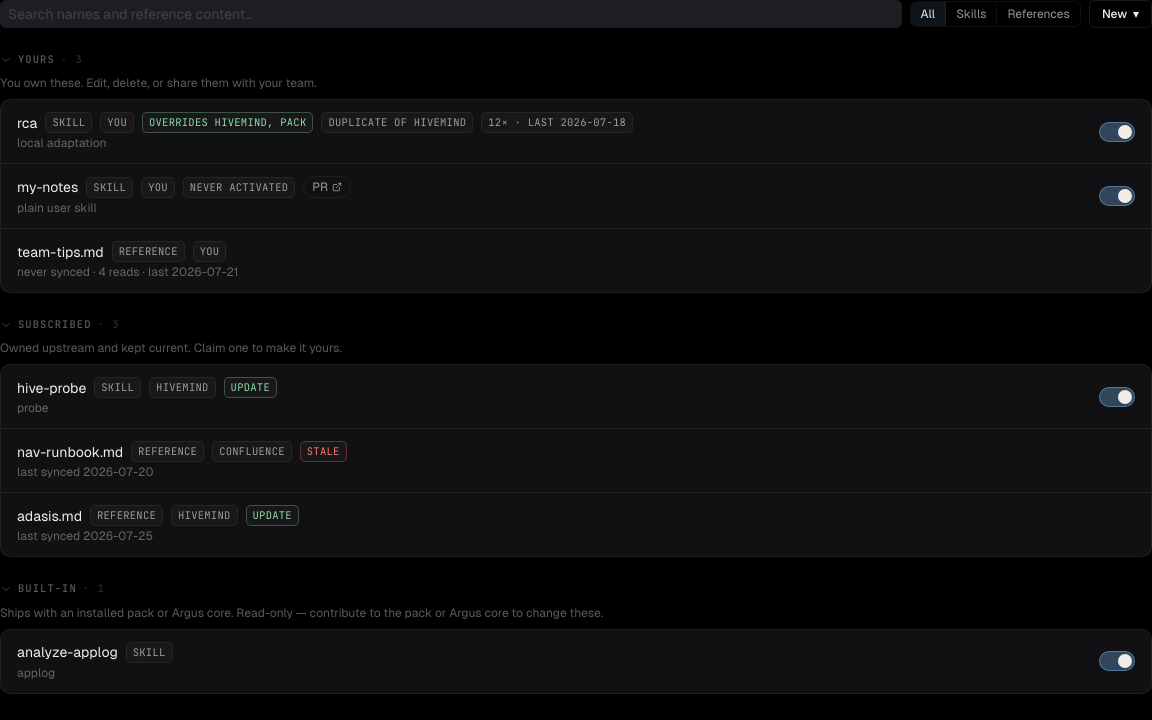
it: LibraryPage merged list › clicking a skill name opens the skill viewer with SKILL.md content
Click the button with aria-label "open · rca" at (27, 123), box [17,113,38,133]
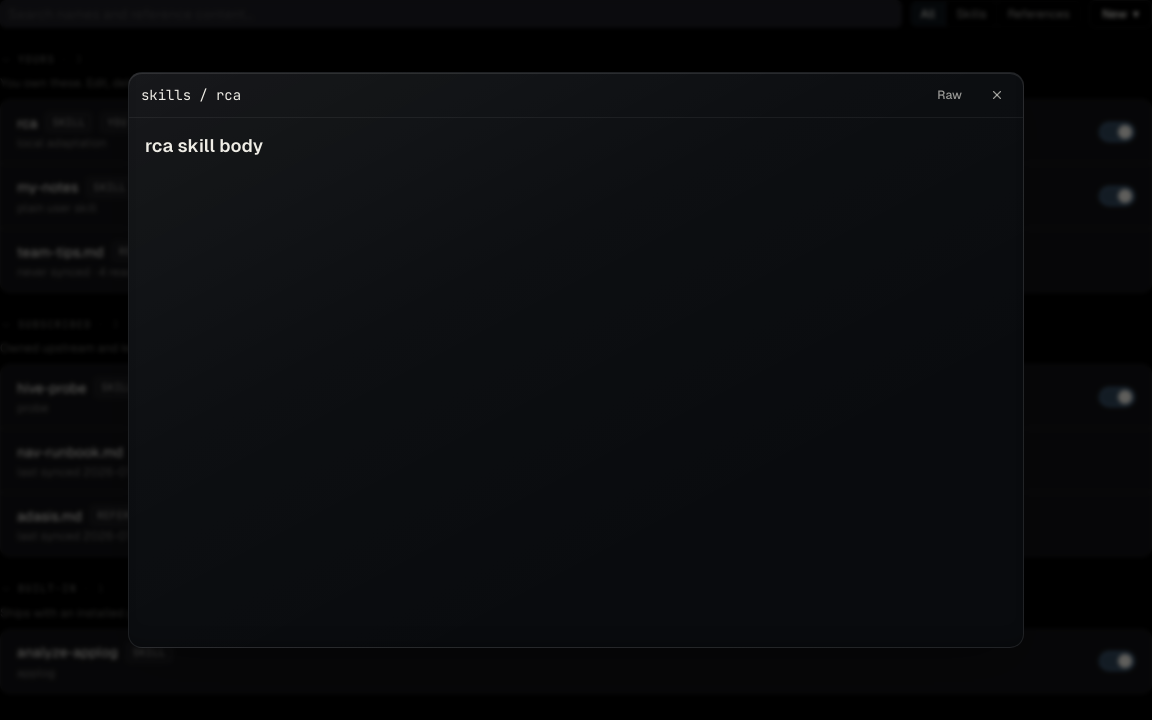
Expected: the heading "rca skill body" is shown, [145,135,263,156]
